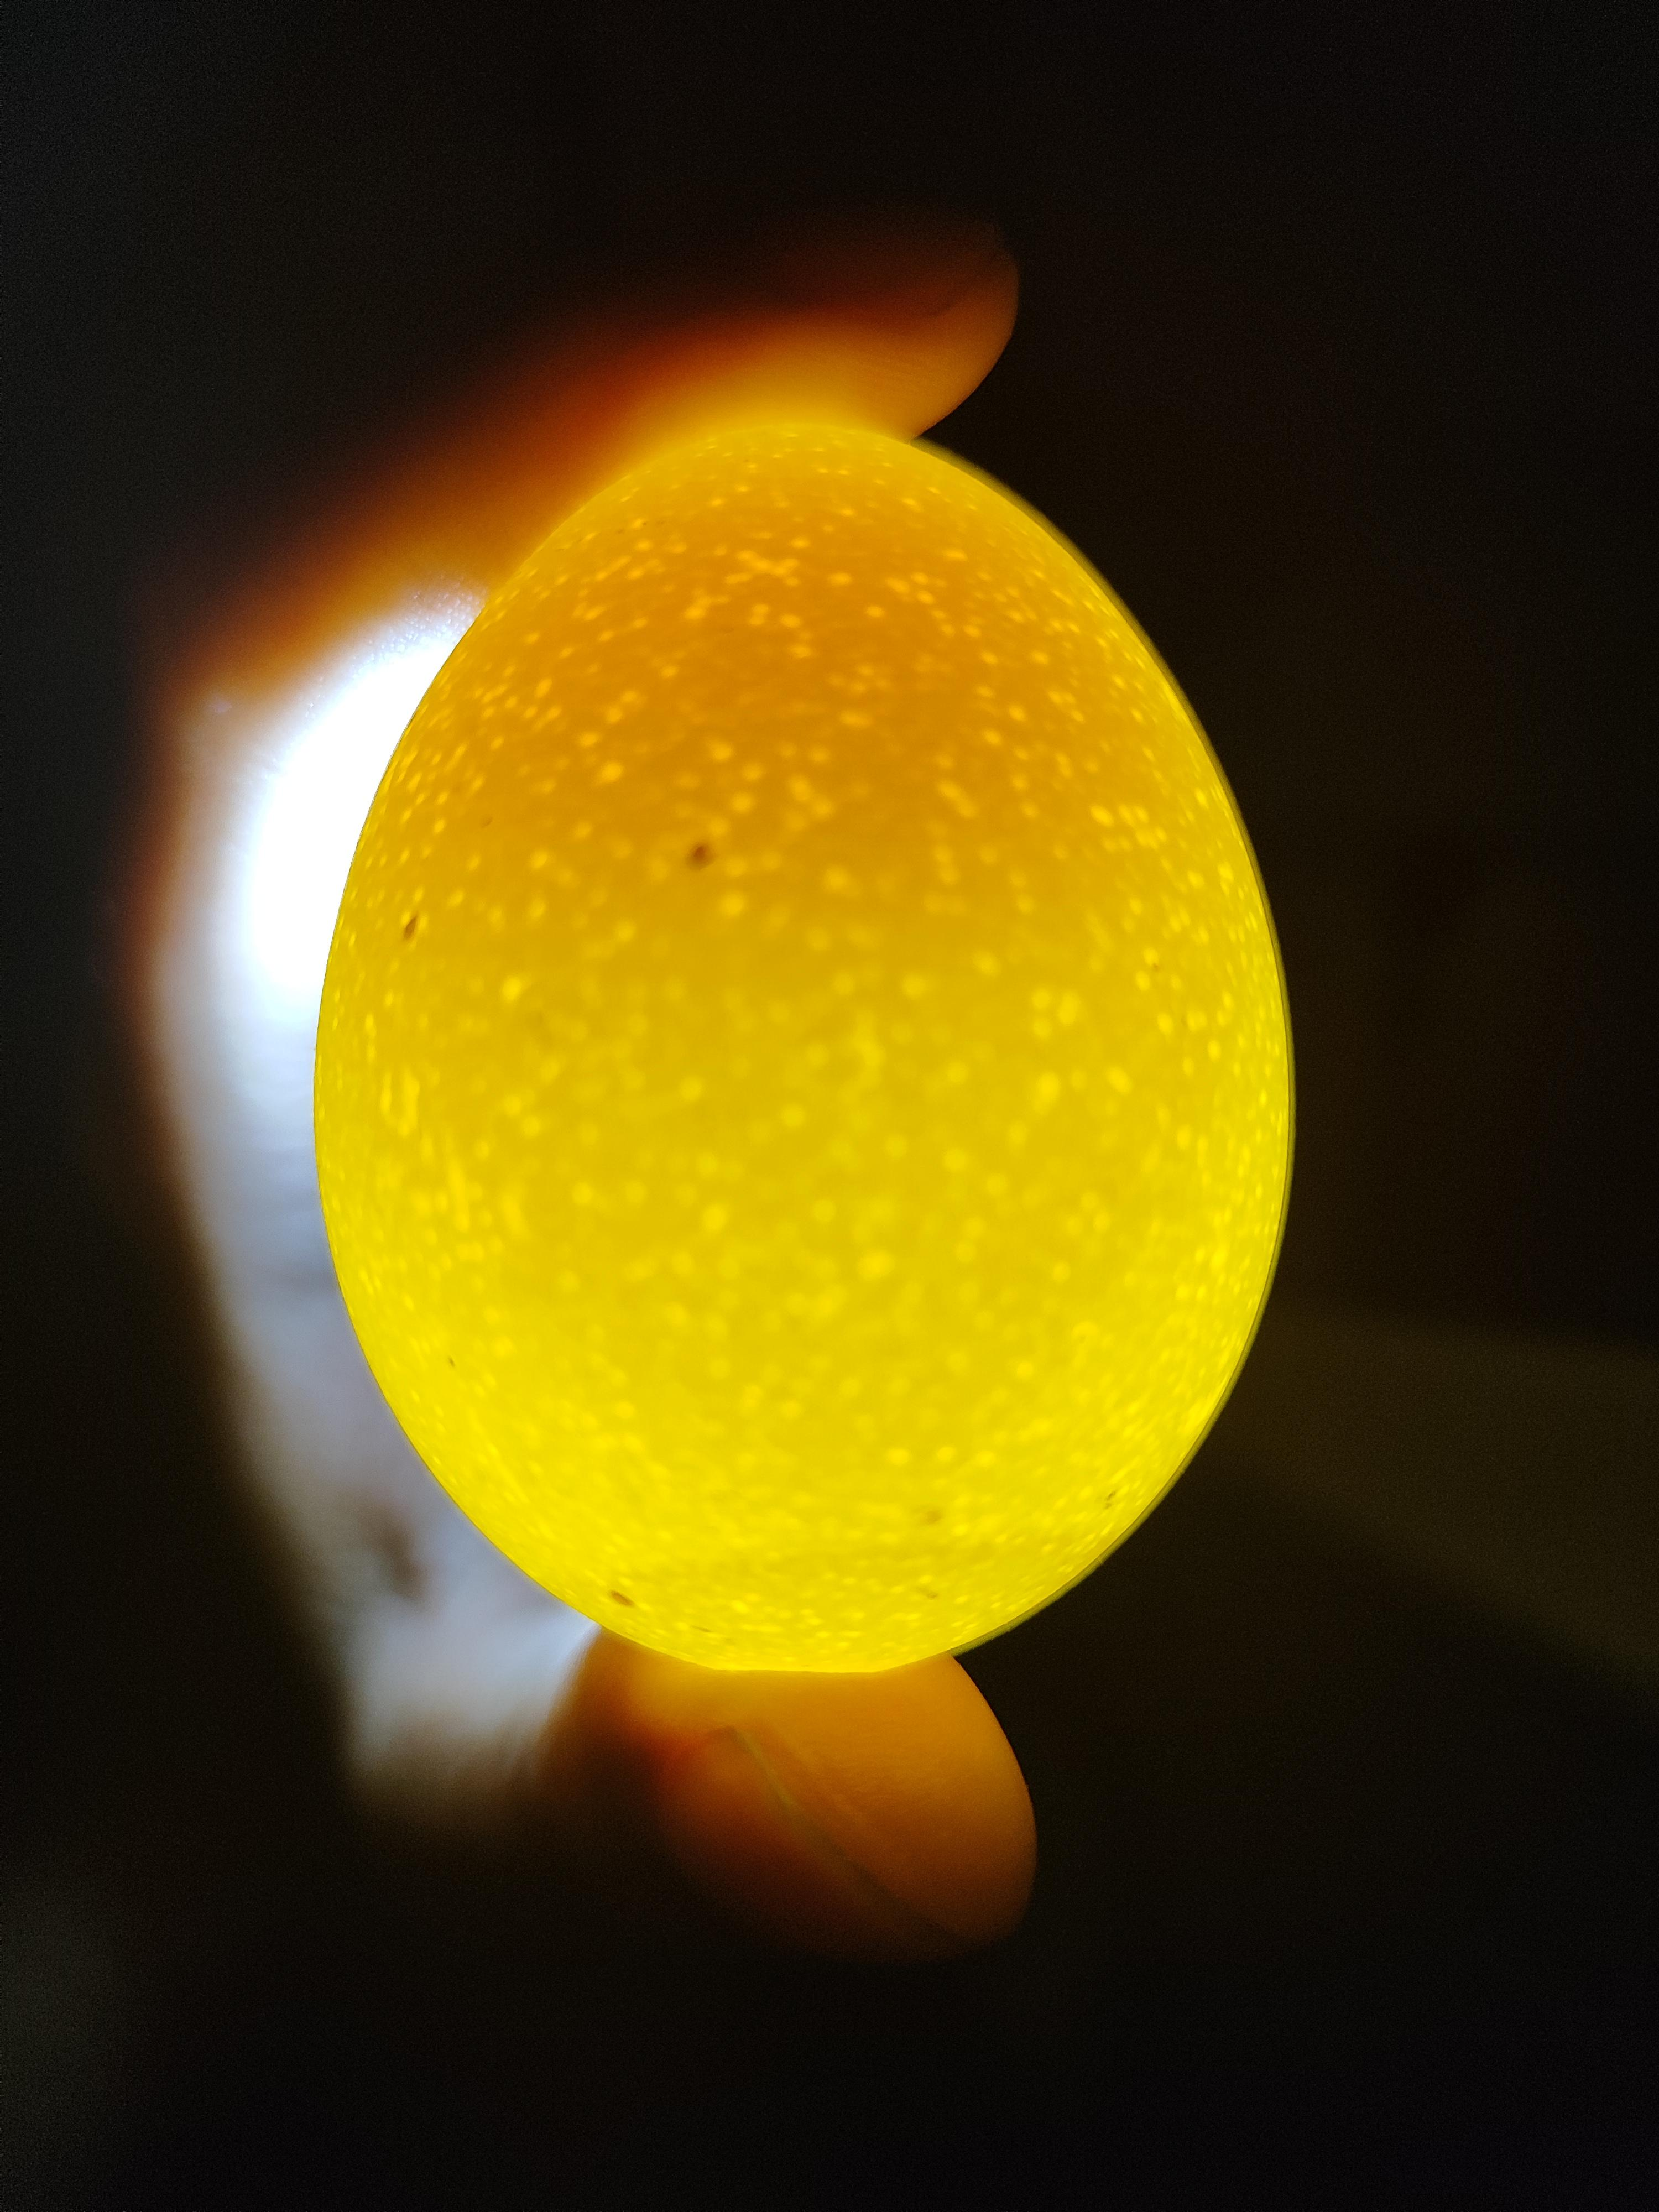A - Good: (291, 376, 1307, 1665)
